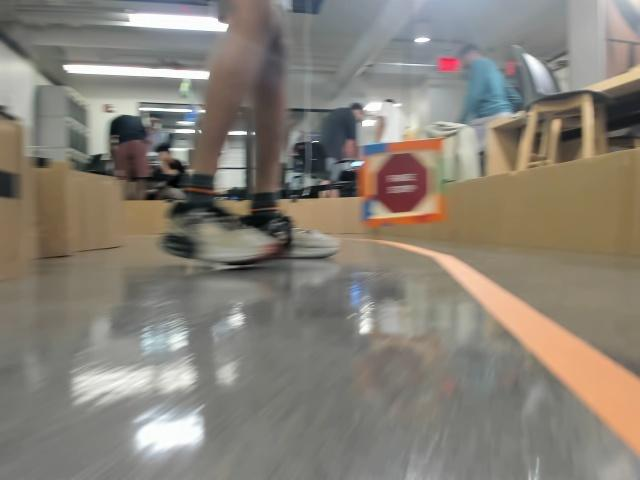Fake Stop: (377, 152, 426, 212)
